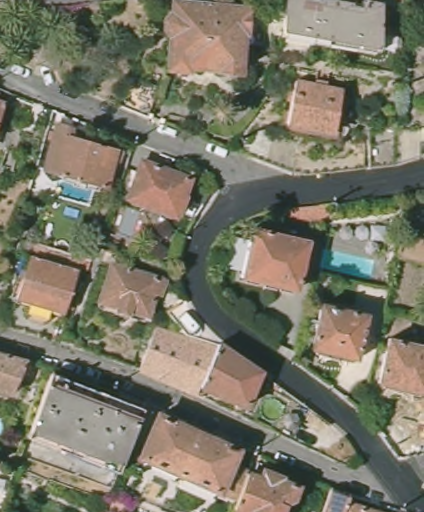pool: (323, 249, 377, 284), (51, 177, 98, 209)
